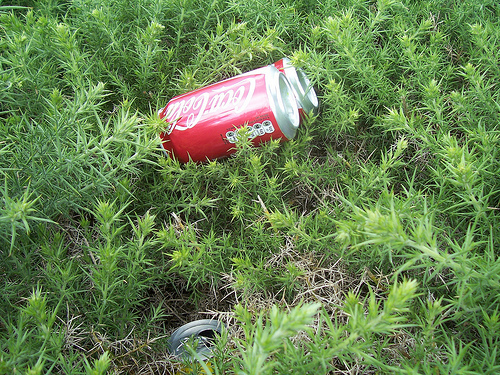litter: (156, 67, 298, 164), (168, 316, 228, 359), (273, 58, 317, 112)
